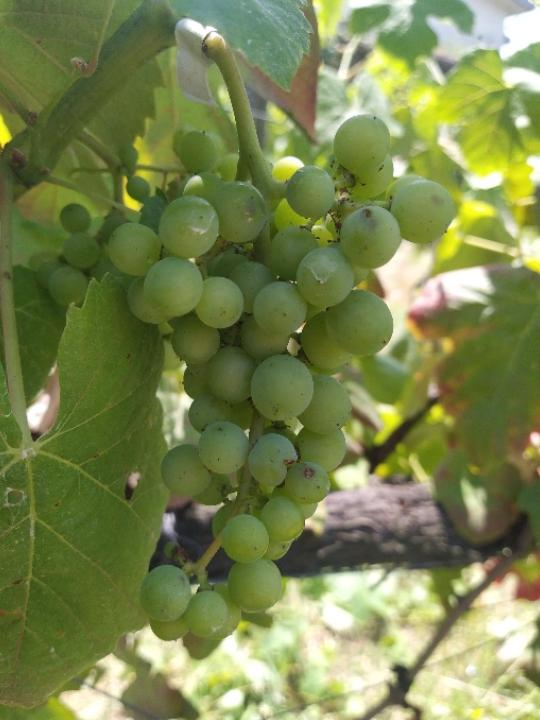grape: (103, 110, 462, 648)
